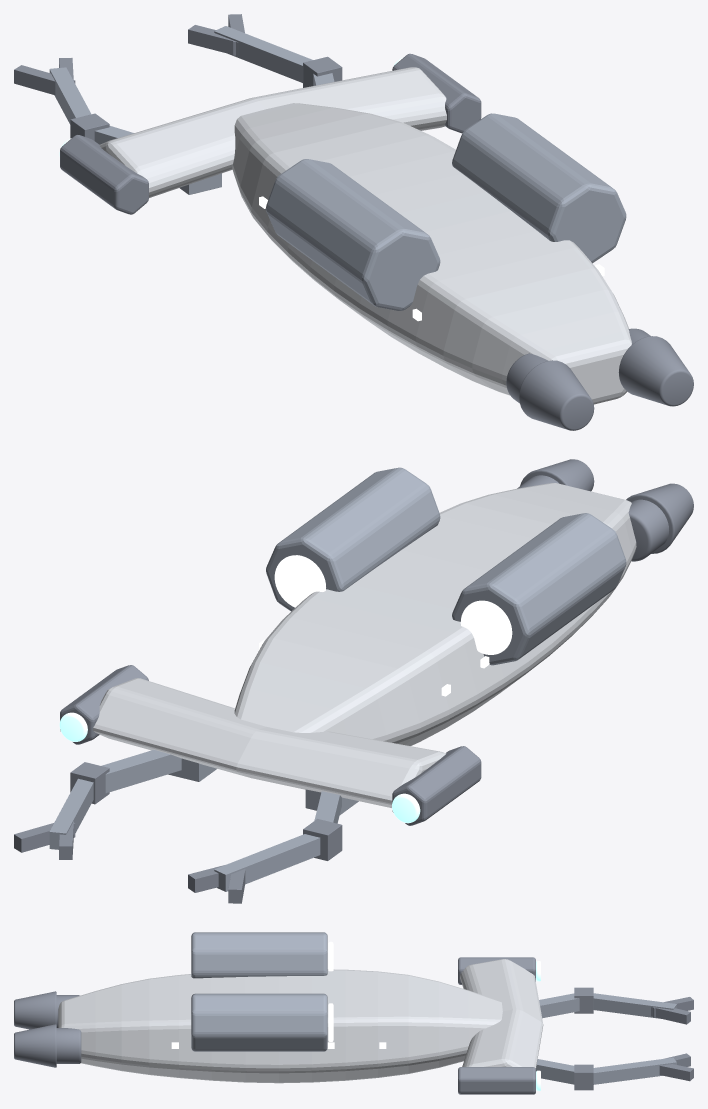
The model's file is consortium-galactica-harvester.glb.
3 renders of one model, top to bottom at view 1: azimuth 30°, elevation 25°; view 2: azimuth 150°, elevation 25°; view 3: azimuth 270°, elevation 25°, orthographic. The views are drawn at different scales.
Parts seen in each view (by area): view 1: hull, Cylinder.004, hammer, Cylinder.006, Cylinder, Cone, Cone.001, Cylinder.002, Cube.009, Cube.003, Cube.010, Cylinder.008 (+3 smaller); view 2: hull, hammer, Cylinder.004, Cylinder.006, Cylinder, Cube.003, Cylinder.005, Cube.007, Cylinder.007, Cone, Cylinder.008, Cylinder.002 (+7 smaller); view 3: hull, Cylinder.006, hammer, Cylinder.004, Cylinder.002, Cone.001, Cone, Cube.009, Cube.003, Cylinder.010, Cube.001, Cube.007 (+6 smaller).
Part boxes in pixels (left/top/right/bottom): hull: left=232, top=103, right=631, bottom=404; Cylinder.004: left=266, top=159, right=440, bottom=310; hammer: left=99, top=67, right=446, bottom=197; Cylinder.006: left=452, top=113, right=626, bottom=263; Cylinder: left=60, top=135, right=148, bottom=214; Cone: left=519, top=360, right=594, bottom=430; Cone.001: left=618, top=336, right=693, bottom=406; Cylinder.002: left=392, top=53, right=481, bottom=133; Cube.009: left=214, top=26, right=313, bottom=82; Cube.003: left=49, top=67, right=90, bottom=124; Cube.010: left=188, top=25, right=239, bottom=56; Cylinder.008: left=506, top=353, right=548, bottom=403; hull: left=234, top=483, right=636, bottom=745; hammer: left=93, top=678, right=446, bottom=807; Cylinder.004: left=452, top=513, right=626, bottom=665; Cylinder.006: left=266, top=467, right=440, bottom=611; Cylinder: left=392, top=746, right=481, bottom=825; Cube.003: left=214, top=834, right=320, bottom=891; Cylinder.005: left=460, top=600, right=512, bottom=654; Cube.007: left=101, top=750, right=181, bottom=793; Cylinder.007: left=274, top=555, right=325, bottom=607; Cone: left=626, top=483, right=693, bottom=553; Cylinder.008: left=628, top=499, right=668, bottom=561; Cylinder.002: left=60, top=665, right=148, bottom=744; hull: left=58, top=969, right=502, bottom=1083; Cylinder.006: left=191, top=993, right=327, bottom=1051; hammer: left=460, top=959, right=543, bottom=1068; Cylinder.004: left=191, top=932, right=327, bottom=978; Cylinder.002: left=458, top=1067, right=535, bottom=1094; Cone.001: left=14, top=1024, right=56, bottom=1067; Cone: left=14, top=991, right=56, bottom=1029; Cube.009: left=593, top=1057, right=676, bottom=1084; Cube.003: left=593, top=993, right=676, bottom=1018; Cylinder.010: left=56, top=1028, right=81, bottom=1063; Cube.001: left=539, top=993, right=579, bottom=1018; Cube.007: left=536, top=1059, right=574, bottom=1084.
Size of the model in its own units: 2.21 by 0.8524 by 5.24.
